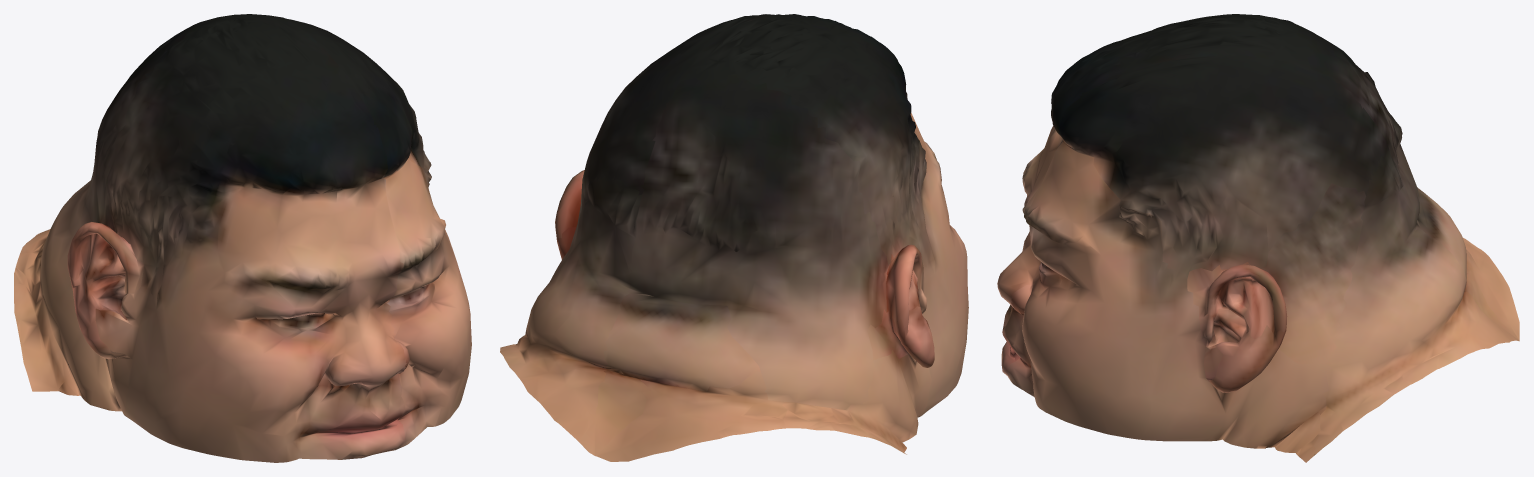
File: patient12.glb
3 views of the same model, side by side, from view 1: azimuth 30°, elevation 25°; view 2: azimuth 150°, elevation 25°; view 3: azimuth 270°, elevation 25° (orthographic). The views are drawn at different scales.
Visible parts, largest first — view 1: patient12; view 2: patient12; view 3: patient12.
Part boxes in pixels (left/top/right/bottom): patient12: left=14, top=14, right=471, bottom=462; patient12: left=500, top=14, right=968, bottom=461; patient12: left=997, top=14, right=1519, bottom=462.
Bounding box in the file's own units: 0.2353 × 0.1967 × 0.2749.
Materials: 1 (1 with a texture image).
